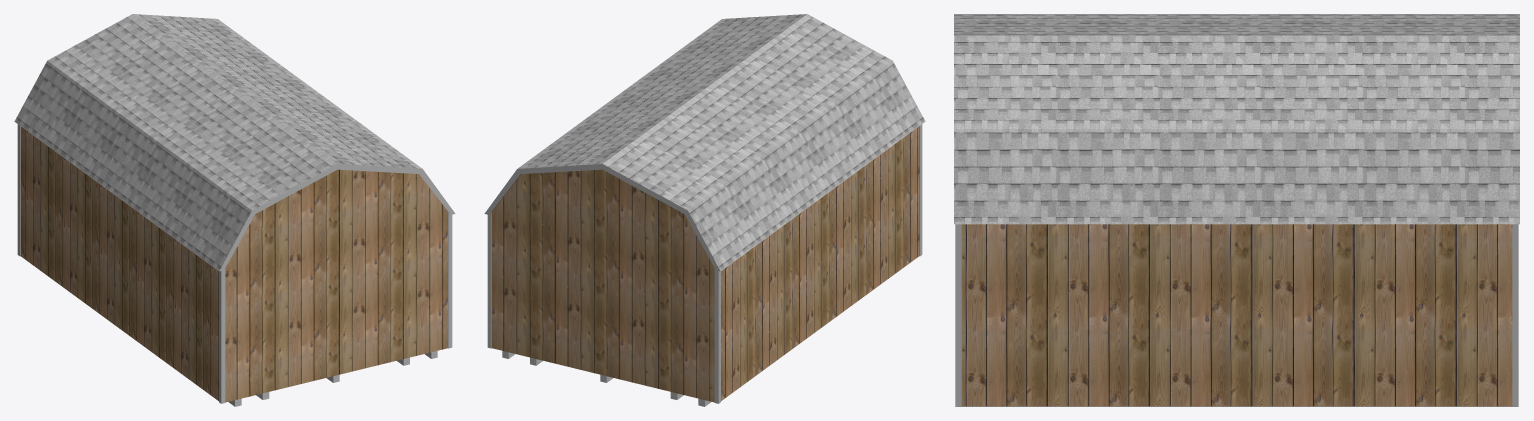
The model's file is Dutch Barn_12x18.obj.
3 views of the same model, side by side, from view 1: azimuth 30°, elevation 25°; view 2: azimuth 150°, elevation 25°; view 3: azimuth 270°, elevation 25° (orthographic). The views are drawn at different scales.
Parts seen in each view (by area): view 1: Shed, Roof, Trim, Sides; view 2: Shed, Roof, Trim, Sides; view 3: Roof, Shed, Trim, Floor.
Part boxes in pixels (bbox=[...]): Shed: bbox=[20, 126, 449, 402]; Roof: bbox=[14, 14, 422, 271]; Trim: bbox=[17, 124, 452, 403]; Sides: bbox=[219, 164, 455, 271]; Shed: bbox=[490, 126, 919, 402]; Roof: bbox=[517, 14, 925, 271]; Trim: bbox=[487, 124, 922, 403]; Sides: bbox=[484, 164, 720, 271]; Roof: bbox=[954, 14, 1519, 224]; Shed: bbox=[961, 224, 1512, 406]; Trim: bbox=[955, 224, 1518, 406]; Floor: bbox=[961, 406, 1512, 406].
Bounding box in the file's own units: 3.69 × 3.27 × 5.54.
